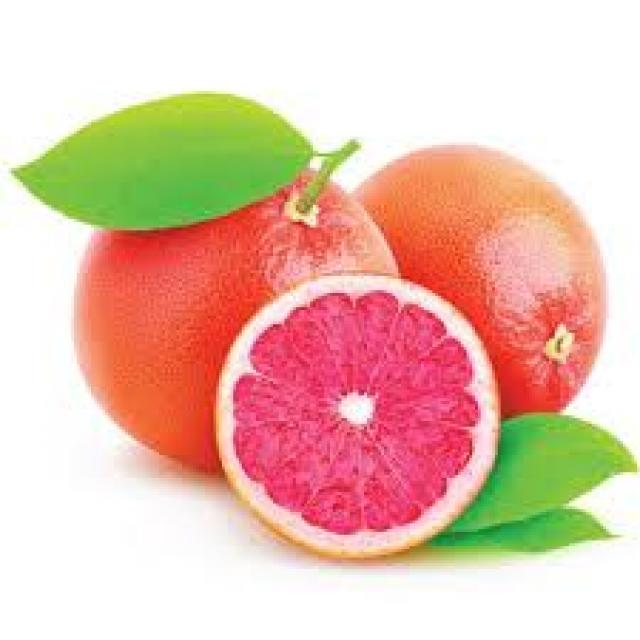organic waste: (77, 182, 461, 481), (216, 270, 501, 555), (350, 142, 603, 421), (6, 88, 358, 222), (430, 416, 634, 544)
